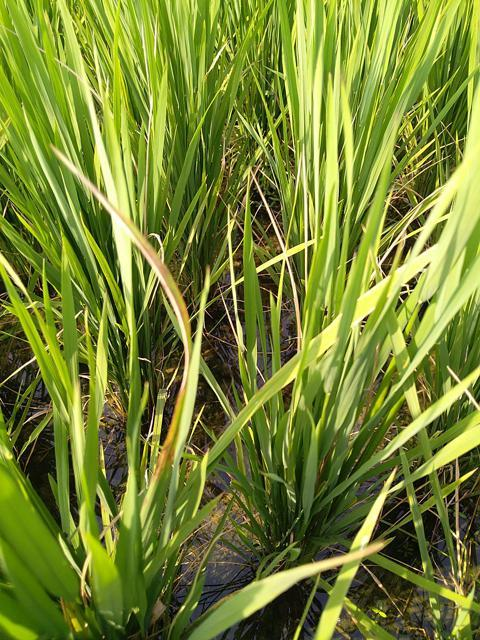Leaf Blight: (52, 150, 192, 525), (185, 540, 390, 639)
